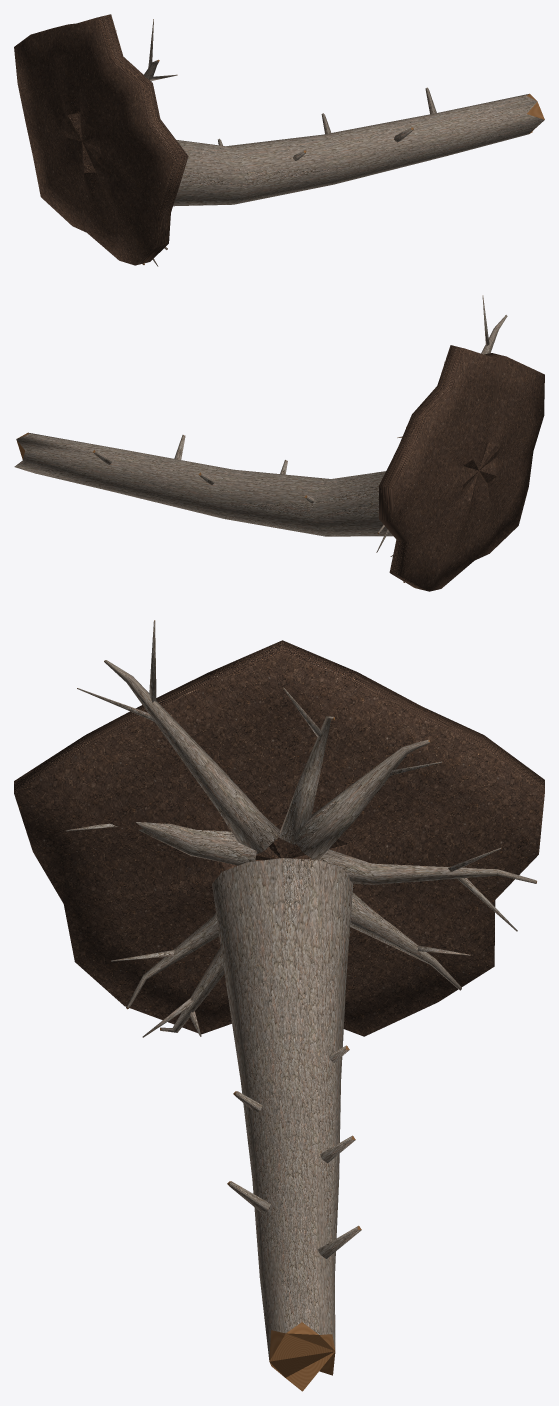
Rendered from SS_WindthrowBase_Fresh_01_LOD1.fbx.
3 renders of one model, top to bottom at view 1: azimuth 30°, elevation 25°; view 2: azimuth 150°, elevation 25°; view 3: azimuth 270°, elevation 25°, orthographic. The views are drawn at different scales.
Parts seen in each view (by area): view 1: SS_WindthrowBase_Fresh_01_LOD1_Structure; view 2: SS_WindthrowBase_Fresh_01_LOD1_Structure; view 3: SS_WindthrowBase_Fresh_01_LOD1_Structure.
Part boxes in pixels (left/top/right/bottom): SS_WindthrowBase_Fresh_01_LOD1_Structure: left=14, top=14, right=544, bottom=266; SS_WindthrowBase_Fresh_01_LOD1_Structure: left=14, top=295, right=544, bottom=591; SS_WindthrowBase_Fresh_01_LOD1_Structure: left=14, top=620, right=544, bottom=1391.
Size of the model in its own units: 556 by 285 by 325.
